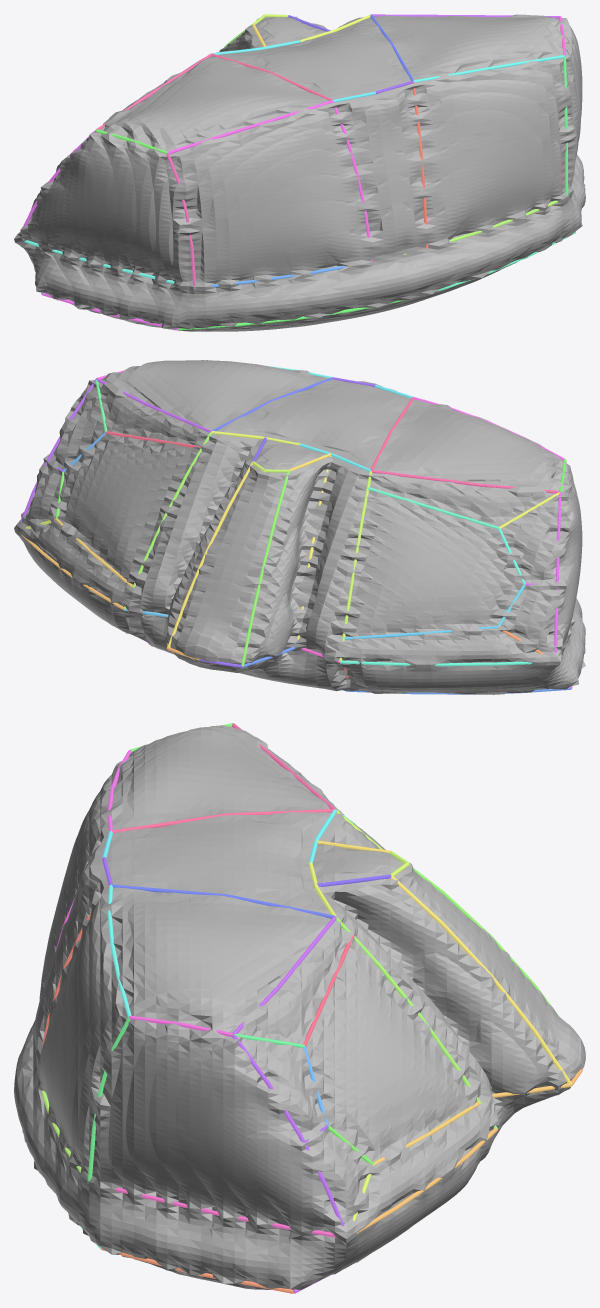
The model's file is ils_speaker.gltf.
3 renders of one model, top to bottom at view 1: azimuth 30°, elevation 25°; view 2: azimuth 150°, elevation 25°; view 3: azimuth 270°, elevation 25°, orthographic. The views are drawn at different scales.
Size of the model in its own units: 0.8215 by 0.3407 by 0.5431.
